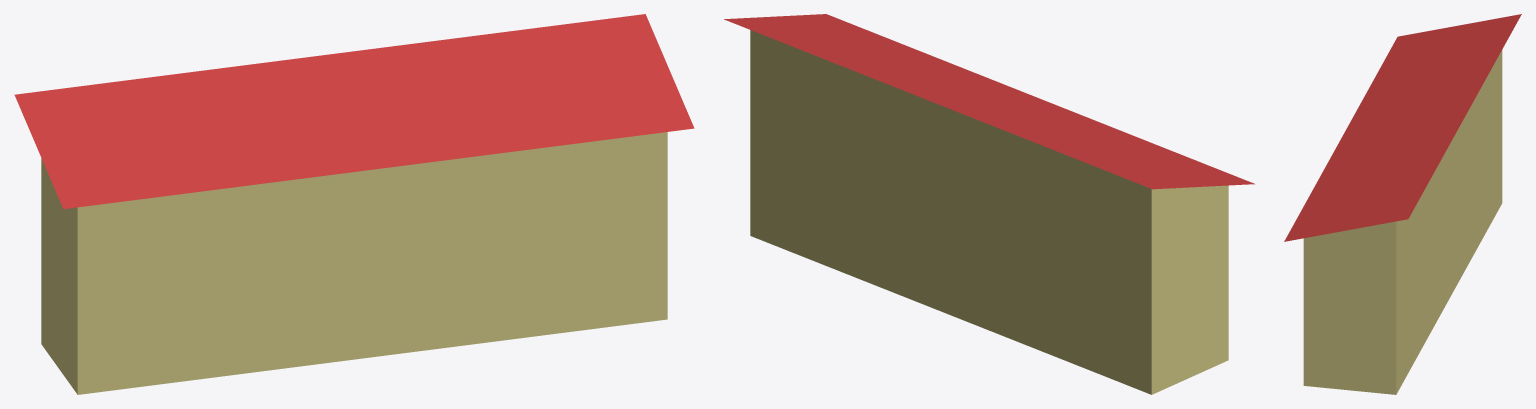
The picture shows the model from 3 angles, left to right: view 1: azimuth 30°, elevation 25°; view 2: azimuth 150°, elevation 25°; view 3: azimuth 270°, elevation 25°; orthographic projection. The views are drawn at different scales.
Bounding box in the file's own units: 15.82 × 7.31 × 6.24.
